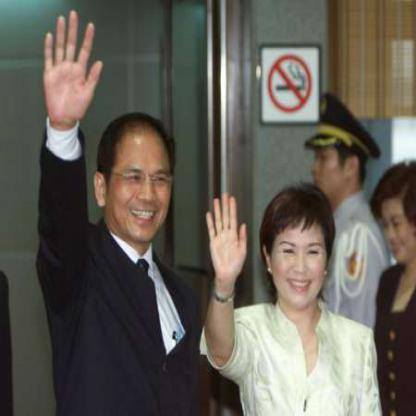face: (107, 115, 176, 244), (271, 188, 328, 310), (302, 118, 349, 200)
